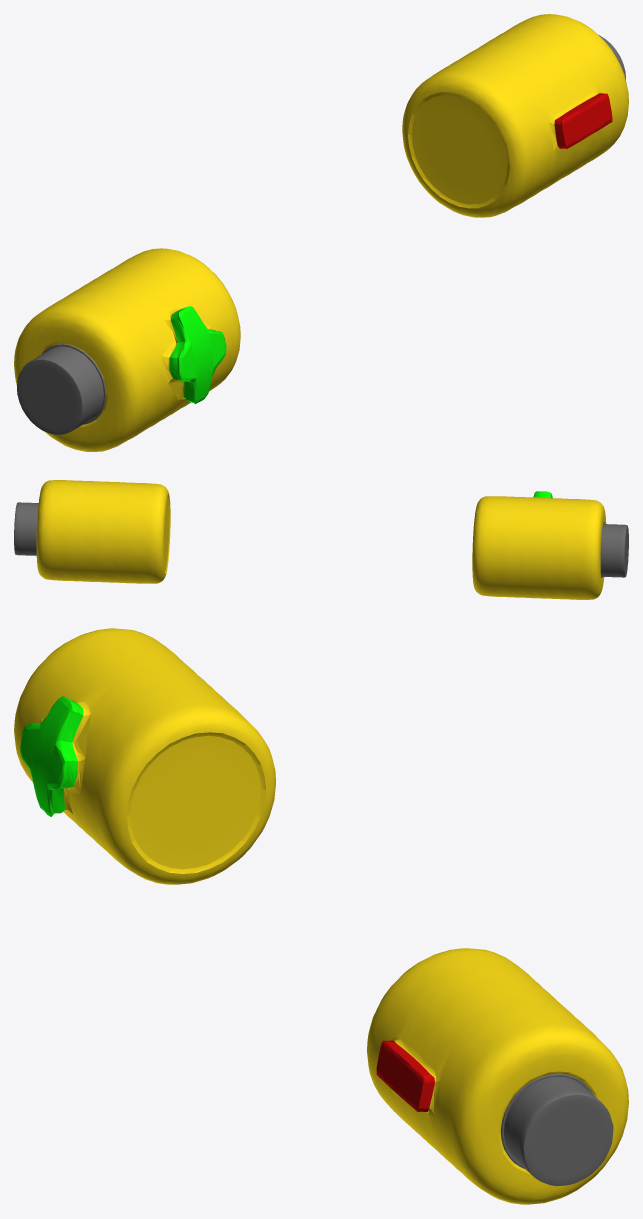
The picture shows the model from 3 angles, top to bottom: view 1: azimuth 30°, elevation 25°; view 2: azimuth 150°, elevation 25°; view 3: azimuth 270°, elevation 25°; orthographic projection. The views are drawn at different scales.
Visible parts, largest first — view 1: Cylinder.002, Cylinder_1; view 2: Cylinder.002, Cylinder_1; view 3: Cylinder.002, Cylinder_1.
Boxes of the visible parts, x1,y1,x2,y2 form: Cylinder.002: (14, 248, 240, 451); Cylinder_1: (402, 14, 628, 217); Cylinder.002: (472, 491, 628, 599); Cylinder_1: (14, 480, 170, 583); Cylinder.002: (14, 628, 275, 884); Cylinder_1: (367, 948, 628, 1204).
Bounding box in the file's own units: 52.7 × 29.43 × 9.22.
